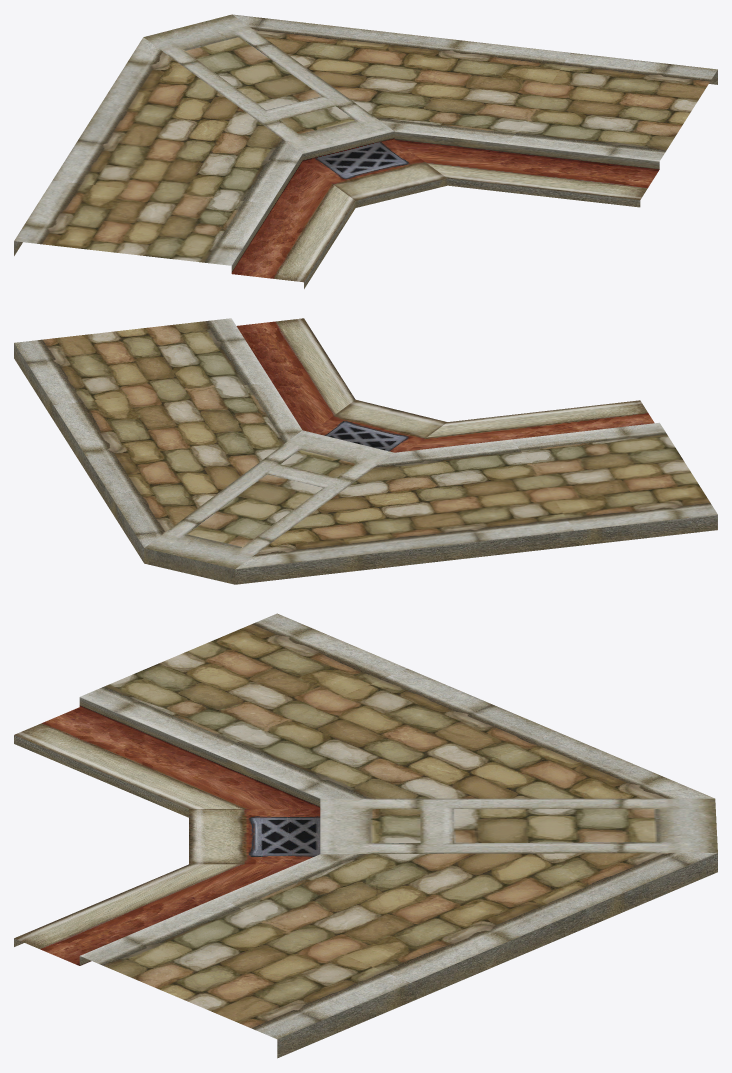
File: obj_masabkdiainle01.glb
The picture shows the model from 3 angles, top to bottom: view 1: azimuth 30°, elevation 25°; view 2: azimuth 150°, elevation 25°; view 3: azimuth 270°, elevation 25°; orthographic projection. The views are drawn at different scales.
Visible parts, largest first — view 1: part_0; view 2: part_0; view 3: part_0.
Boxes of the visible parts, x1=… form: part_0: x1=14, y1=14, x2=717, y2=288; part_0: x1=14, y1=318, x2=717, y2=584; part_0: x1=14, y1=613, x2=717, y2=1058.
Bounding box in the file's own units: 10.83 × 0.2275 × 7.57.
2 materials, 2 textured.
